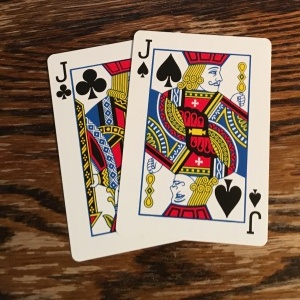card: (119, 29, 275, 246), (42, 40, 132, 260)
